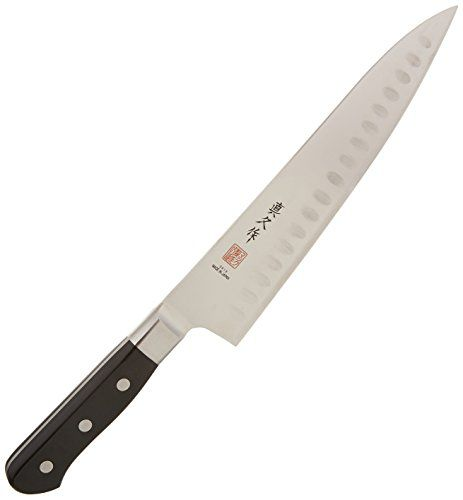knife: (5, 6, 460, 495)
